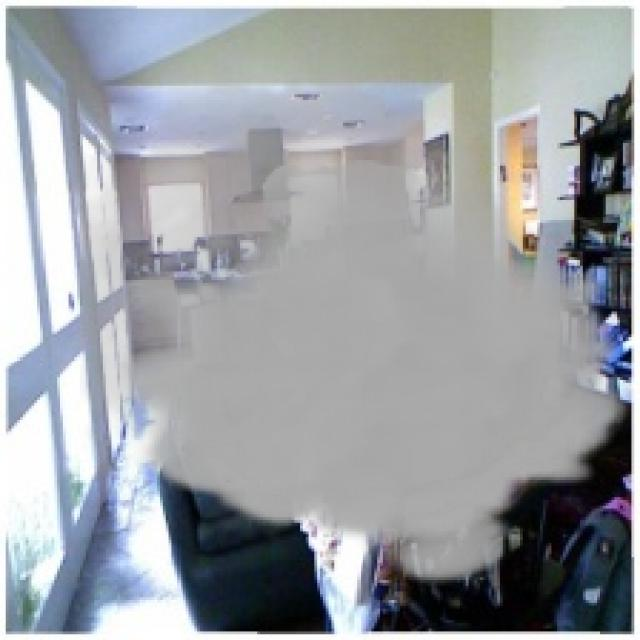smoke: (80, 43, 631, 588)
